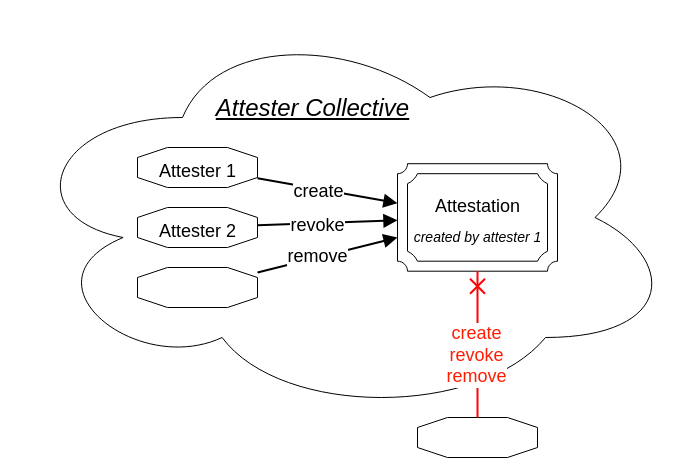
Some shapes in this 695 by 475 pixel diagram are drawn without their labels. The shapes that lost their labels are listed below. From the top down, each one's centre as x and y in pixels, then its label:
(197,287): Attester 3
(477,437): Attester 4
